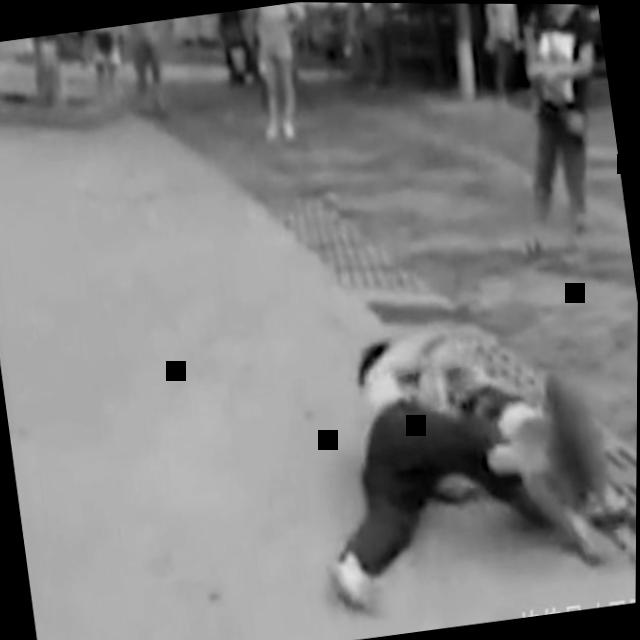Fall-Detected: (289, 294, 560, 621)
